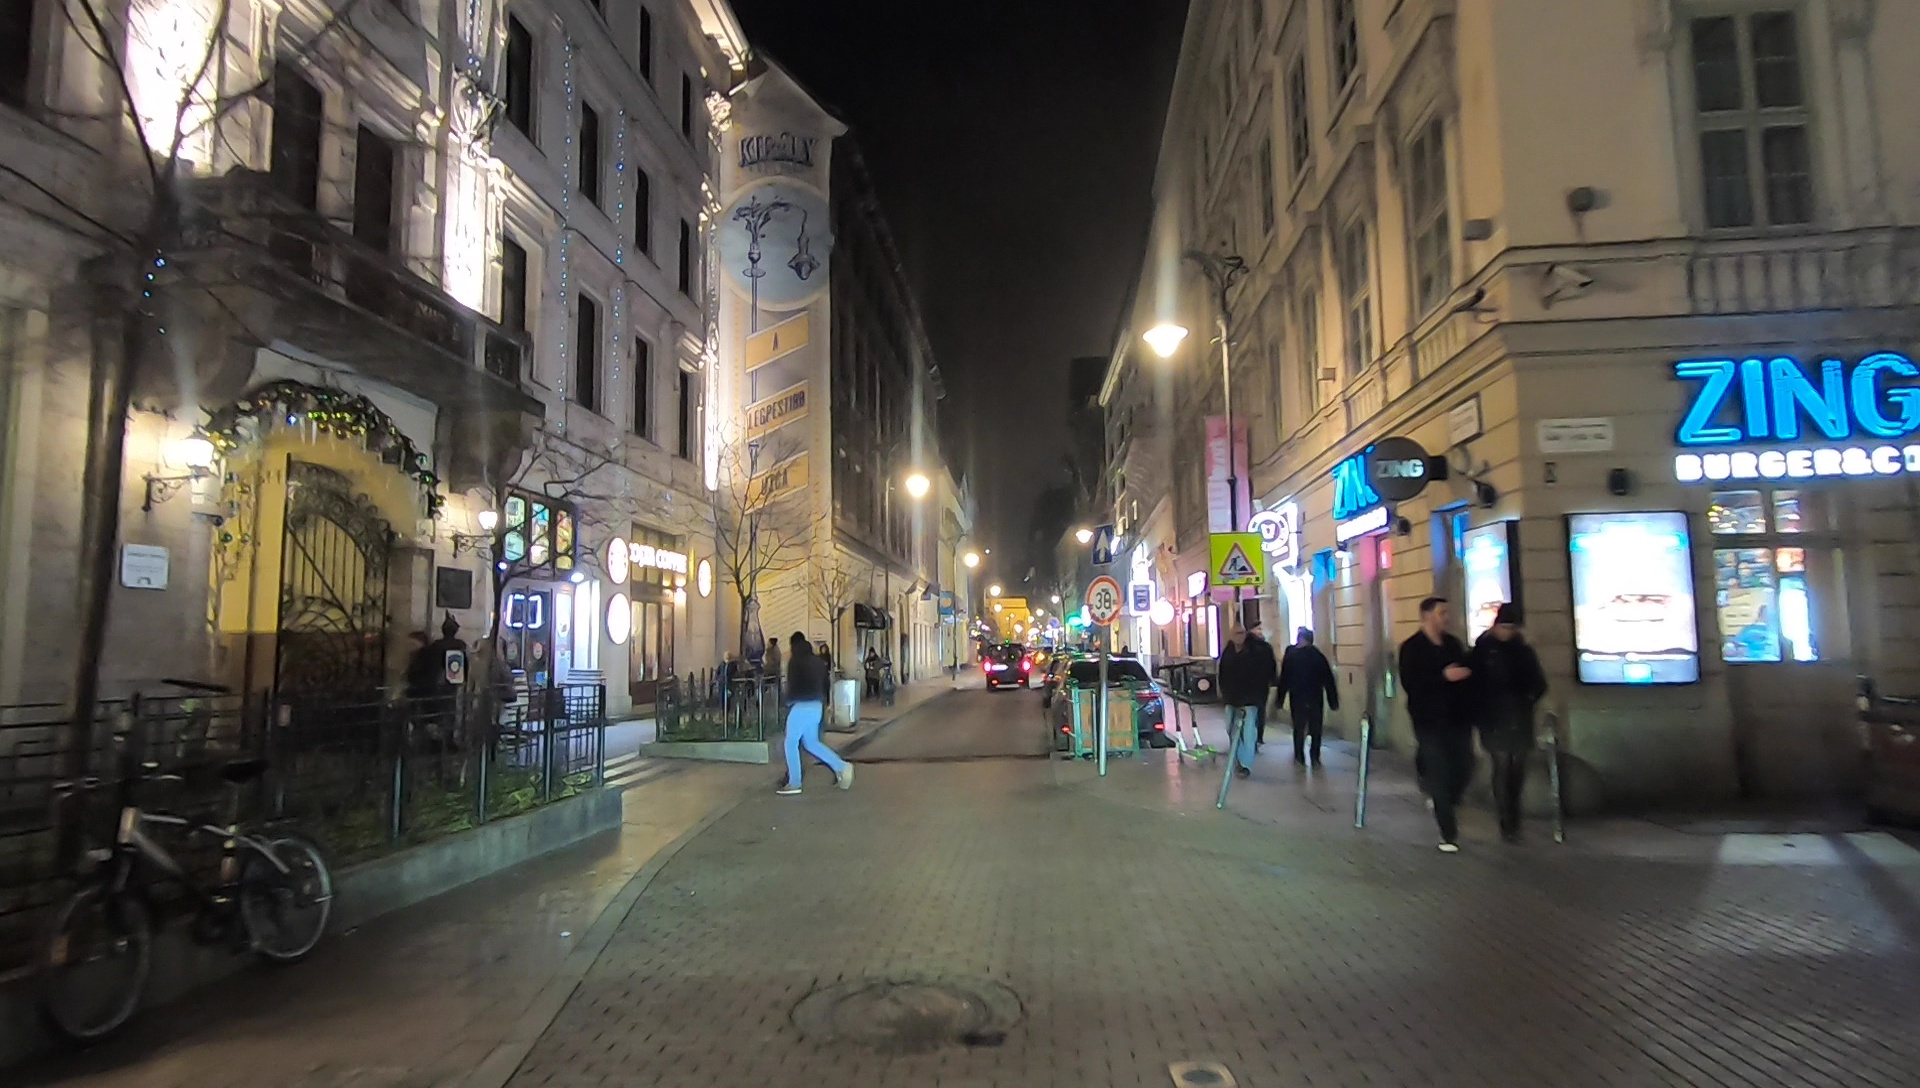person: (1399, 593, 1482, 854), (1478, 593, 1541, 849), (780, 630, 856, 795), (1282, 623, 1343, 776), (1225, 621, 1269, 773)
